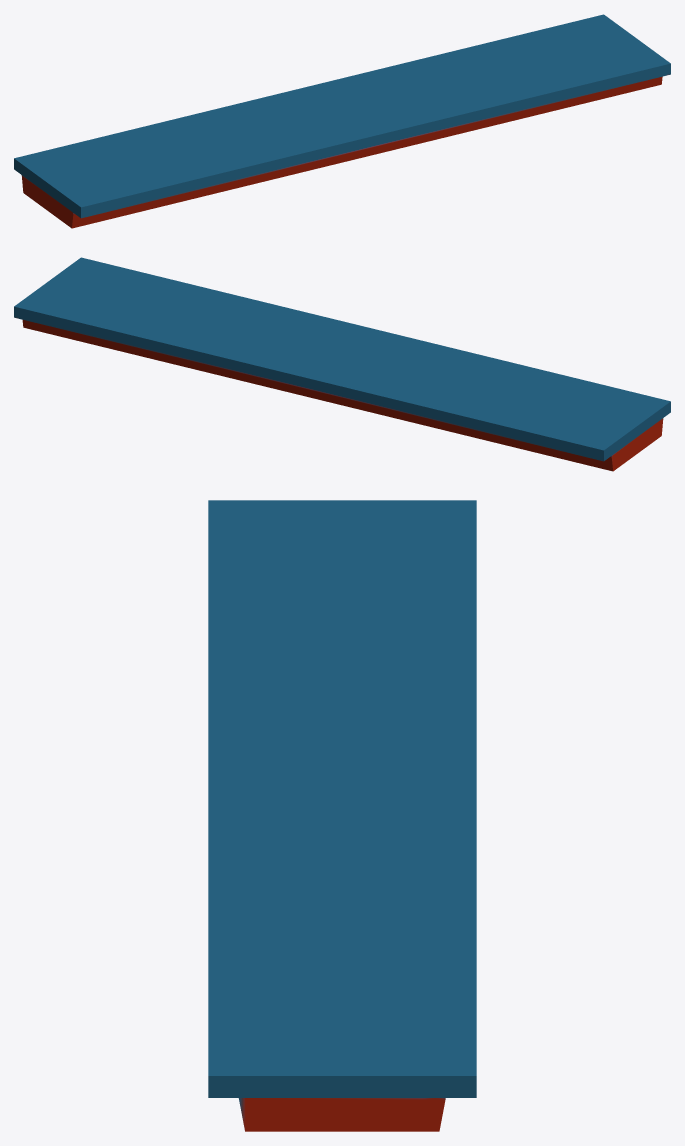
The model's file is Roof02.fbx.
3 renders of one model, top to bottom at view 1: azimuth 30°, elevation 25°; view 2: azimuth 150°, elevation 25°; view 3: azimuth 270°, elevation 25°, orthographic. The views are drawn at different scales.
Visible parts, largest first — view 1: pCube1; view 2: pCube1; view 3: pCube1.
Boxes of the visible parts, x1,y1,x2,y2 form: pCube1: (14,14,670,228); pCube1: (14,257,670,471); pCube1: (208,500,476,1131).
Size of the model in its own units: 6.32 by 0.2852 by 1.25.
